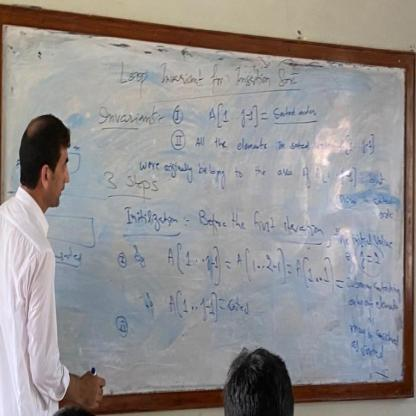Handwritten text: (117, 52, 298, 100), (134, 152, 316, 193), (193, 203, 327, 244), (193, 129, 315, 162), (124, 200, 185, 238), (98, 99, 156, 136)
Lecturer: (2, 105, 97, 416)
Whiteboard: (0, 18, 411, 407)
